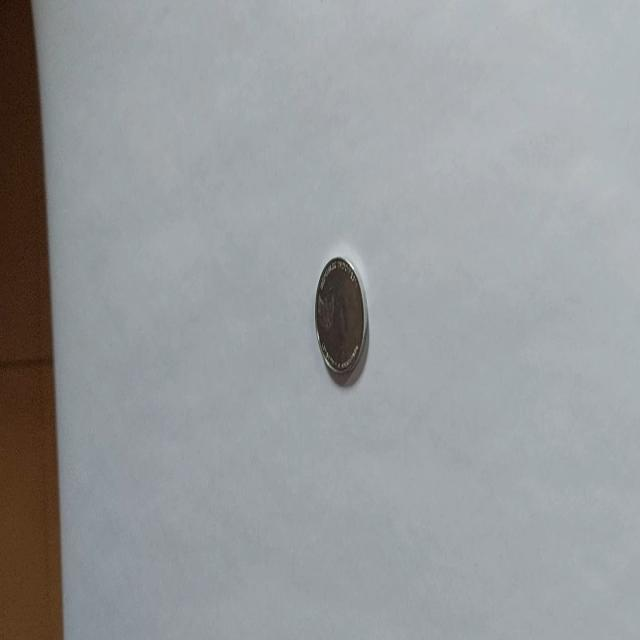lima ratus rupiah: (313, 254, 369, 385)
